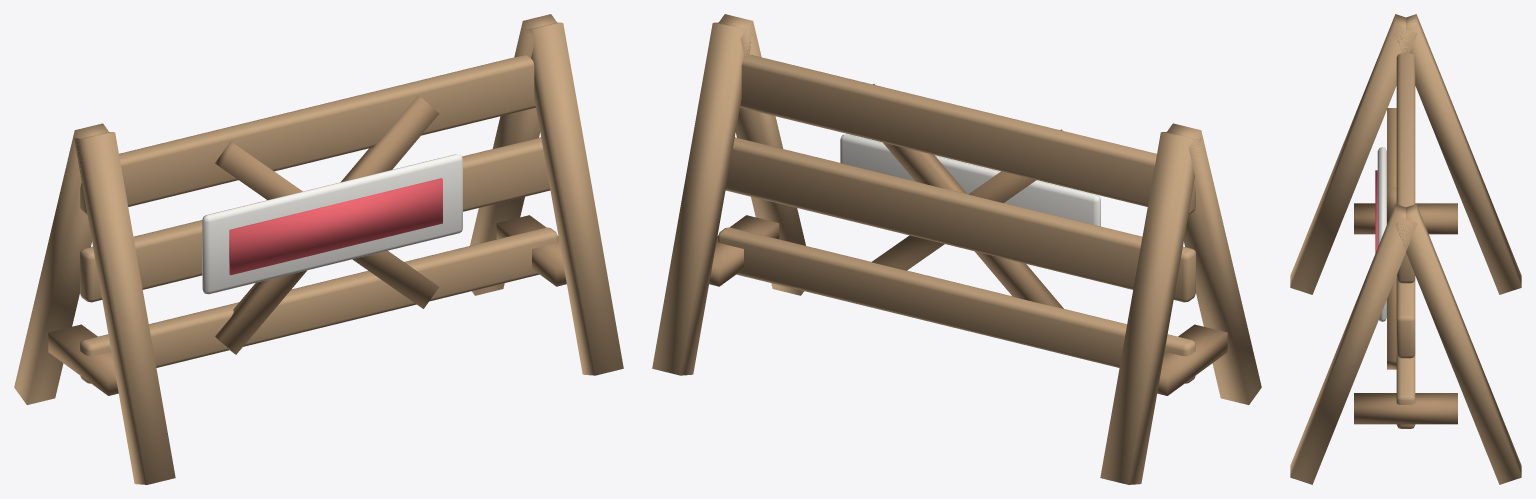
The model's file is wooden_roadblock.glb.
The picture shows the model from 3 angles, left to right: view 1: azimuth 30°, elevation 25°; view 2: azimuth 150°, elevation 25°; view 3: azimuth 270°, elevation 25°; orthographic projection. The views are drawn at different scales.
Parts seen in each view (by area): view 1: PlankTop, PlankBot, LegB_-0.95, LegB_0.95, SignBoard, SignText, PlankMid, LegF_-0.95, DiagL, DiagR, LegF_0.95, Tie_-0.95 (+1 smaller); view 2: PlankMid, PlankTop, PlankBot, LegF_-0.95, LegF_0.95, LegB_-0.95, SignBoard, LegB_0.95, DiagL, Tie_-0.95, DiagR, Tie_0.95; view 3: LegB_0.95, LegB_-0.95, LegF_0.95, LegF_-0.95, PlankTop, Tie_0.95, Tie_-0.95, DiagR, PlankMid, PlankBot, SignBoard, DiagL.
Boxes of the visible parts, bbox=[...] form: PlankTop: bbox=[80, 55, 535, 215]; PlankBot: bbox=[80, 227, 557, 383]; LegB_-0.95: bbox=[74, 132, 175, 484]; LegB_0.95: bbox=[525, 22, 623, 375]; SignBoard: bbox=[202, 154, 462, 294]; SignText: bbox=[229, 178, 442, 275]; PlankMid: bbox=[80, 137, 550, 302]; LegF_-0.95: bbox=[14, 123, 108, 404]; DiagL: bbox=[215, 95, 438, 354]; DiagR: bbox=[215, 141, 438, 308]; LegF_0.95: bbox=[470, 14, 556, 295]; Tie_-0.95: bbox=[48, 324, 118, 395]; PlankMid: bbox=[725, 137, 1195, 302]; PlankTop: bbox=[740, 55, 1195, 215]; PlankBot: bbox=[718, 227, 1195, 383]; LegF_-0.95: bbox=[1100, 132, 1201, 484]; LegF_0.95: bbox=[652, 22, 752, 375]; LegB_-0.95: bbox=[1167, 123, 1261, 404]; SignBoard: bbox=[840, 134, 1100, 226]; LegB_0.95: bbox=[719, 14, 805, 295]; DiagL: bbox=[873, 83, 1063, 308]; Tie_-0.95: bbox=[1157, 324, 1227, 395]; DiagR: bbox=[872, 129, 1062, 270]; Tie_0.95: bbox=[709, 215, 779, 286]; LegB_0.95: bbox=[1290, 204, 1417, 484]; LegB_-0.95: bbox=[1290, 14, 1417, 294]; LegF_0.95: bbox=[1396, 204, 1521, 484]; LegF_-0.95: bbox=[1396, 14, 1521, 294]; PlankTop: bbox=[1396, 53, 1415, 283]; Tie_0.95: bbox=[1354, 393, 1457, 424]; Tie_-0.95: bbox=[1354, 203, 1457, 234]; DiagR: bbox=[1387, 108, 1396, 369]; PlankMid: bbox=[1396, 279, 1415, 358]; PlankBot: bbox=[1396, 355, 1415, 428]; SignBoard: bbox=[1377, 147, 1386, 321]; DiagL: bbox=[1387, 187, 1396, 223].
Bounding box in the file's own units: 2.04 × 1.26 × 0.9786.
